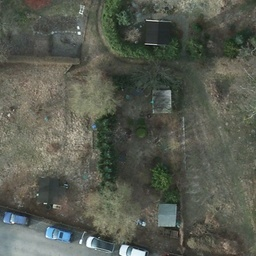car: (2, 210, 31, 230), (83, 235, 115, 252), (45, 225, 75, 242)
